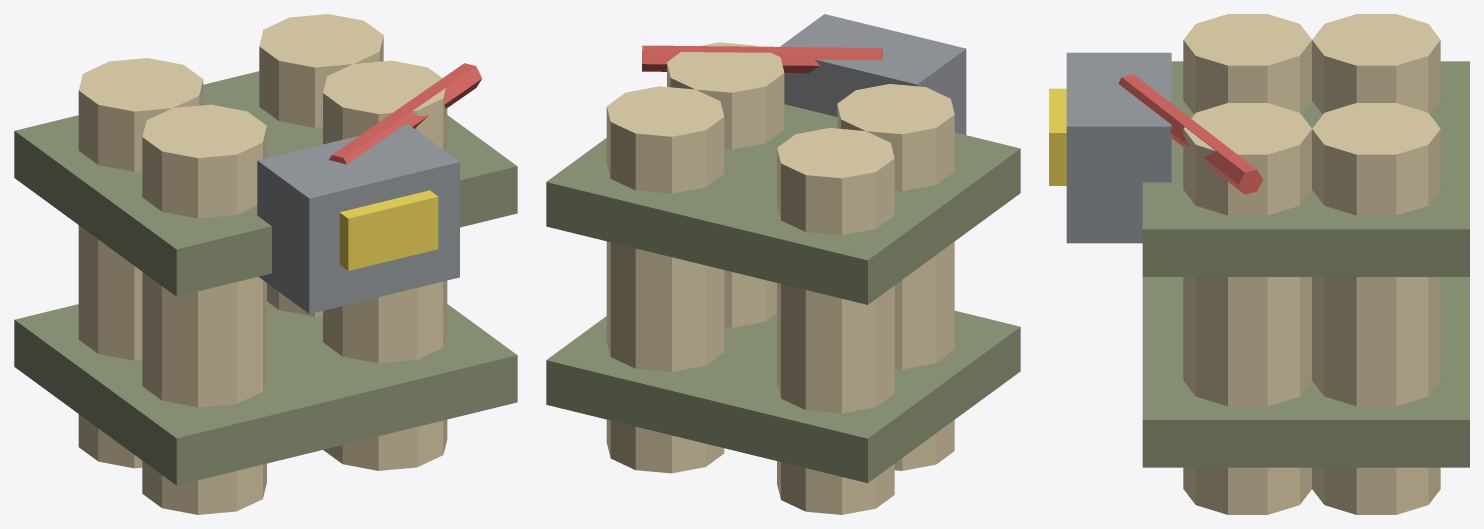
The picture shows the model from 3 angles, left to right: view 1: azimuth 30°, elevation 25°; view 2: azimuth 150°, elevation 25°; view 3: azimuth 270°, elevation 25°; orthographic projection. The views are drawn at different scales.
Visible parts, largest first — view 1: c4; view 2: c4; view 3: c4.
Part boxes in pixels (x1,y1,x2,y2): c4: [14, 14, 517, 514]; c4: [546, 14, 1020, 514]; c4: [1049, 14, 1469, 514].
Size of the model in its own units: 0.3523 by 0.3404 by 0.36.
